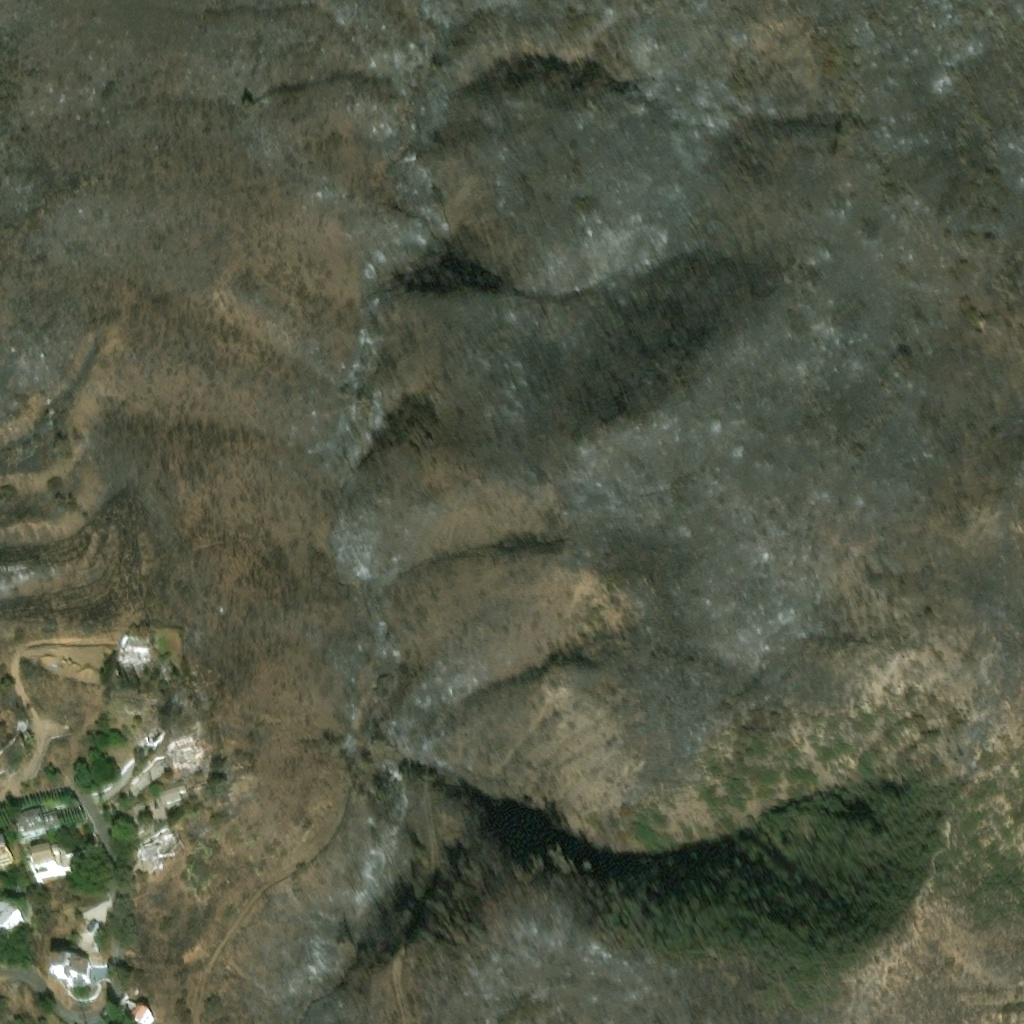0 no-damage: (142, 785, 190, 825), (11, 807, 60, 839), (27, 842, 73, 876), (53, 959, 94, 991), (0, 901, 22, 935), (123, 803, 148, 821), (0, 837, 13, 871), (131, 1004, 153, 1023), (119, 993, 136, 1010), (87, 922, 99, 935)
3 destroyed: (135, 830, 174, 872), (115, 638, 155, 670), (168, 733, 198, 768), (143, 720, 165, 744)
